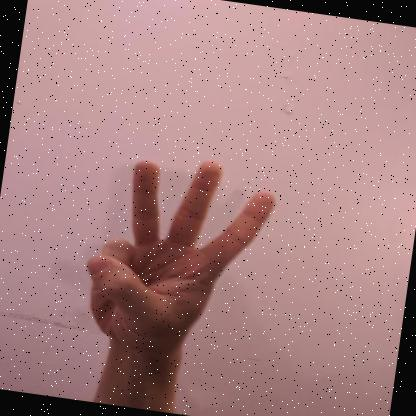W: (87, 160, 276, 352)
